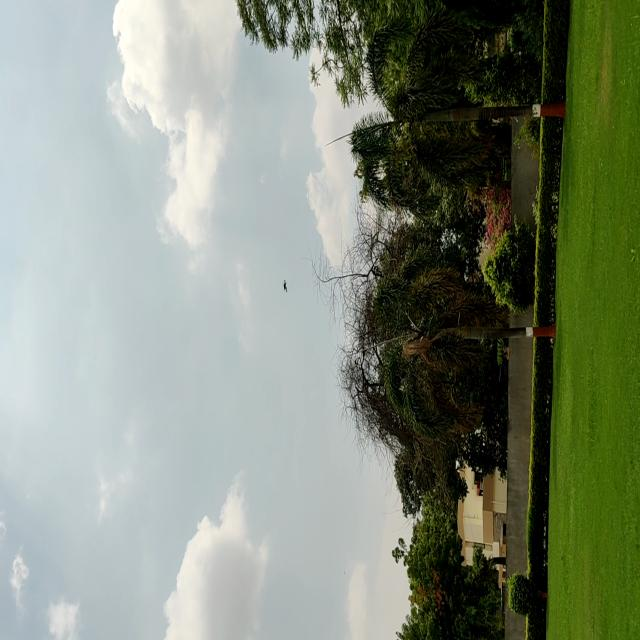drone: (279, 272, 291, 295)
